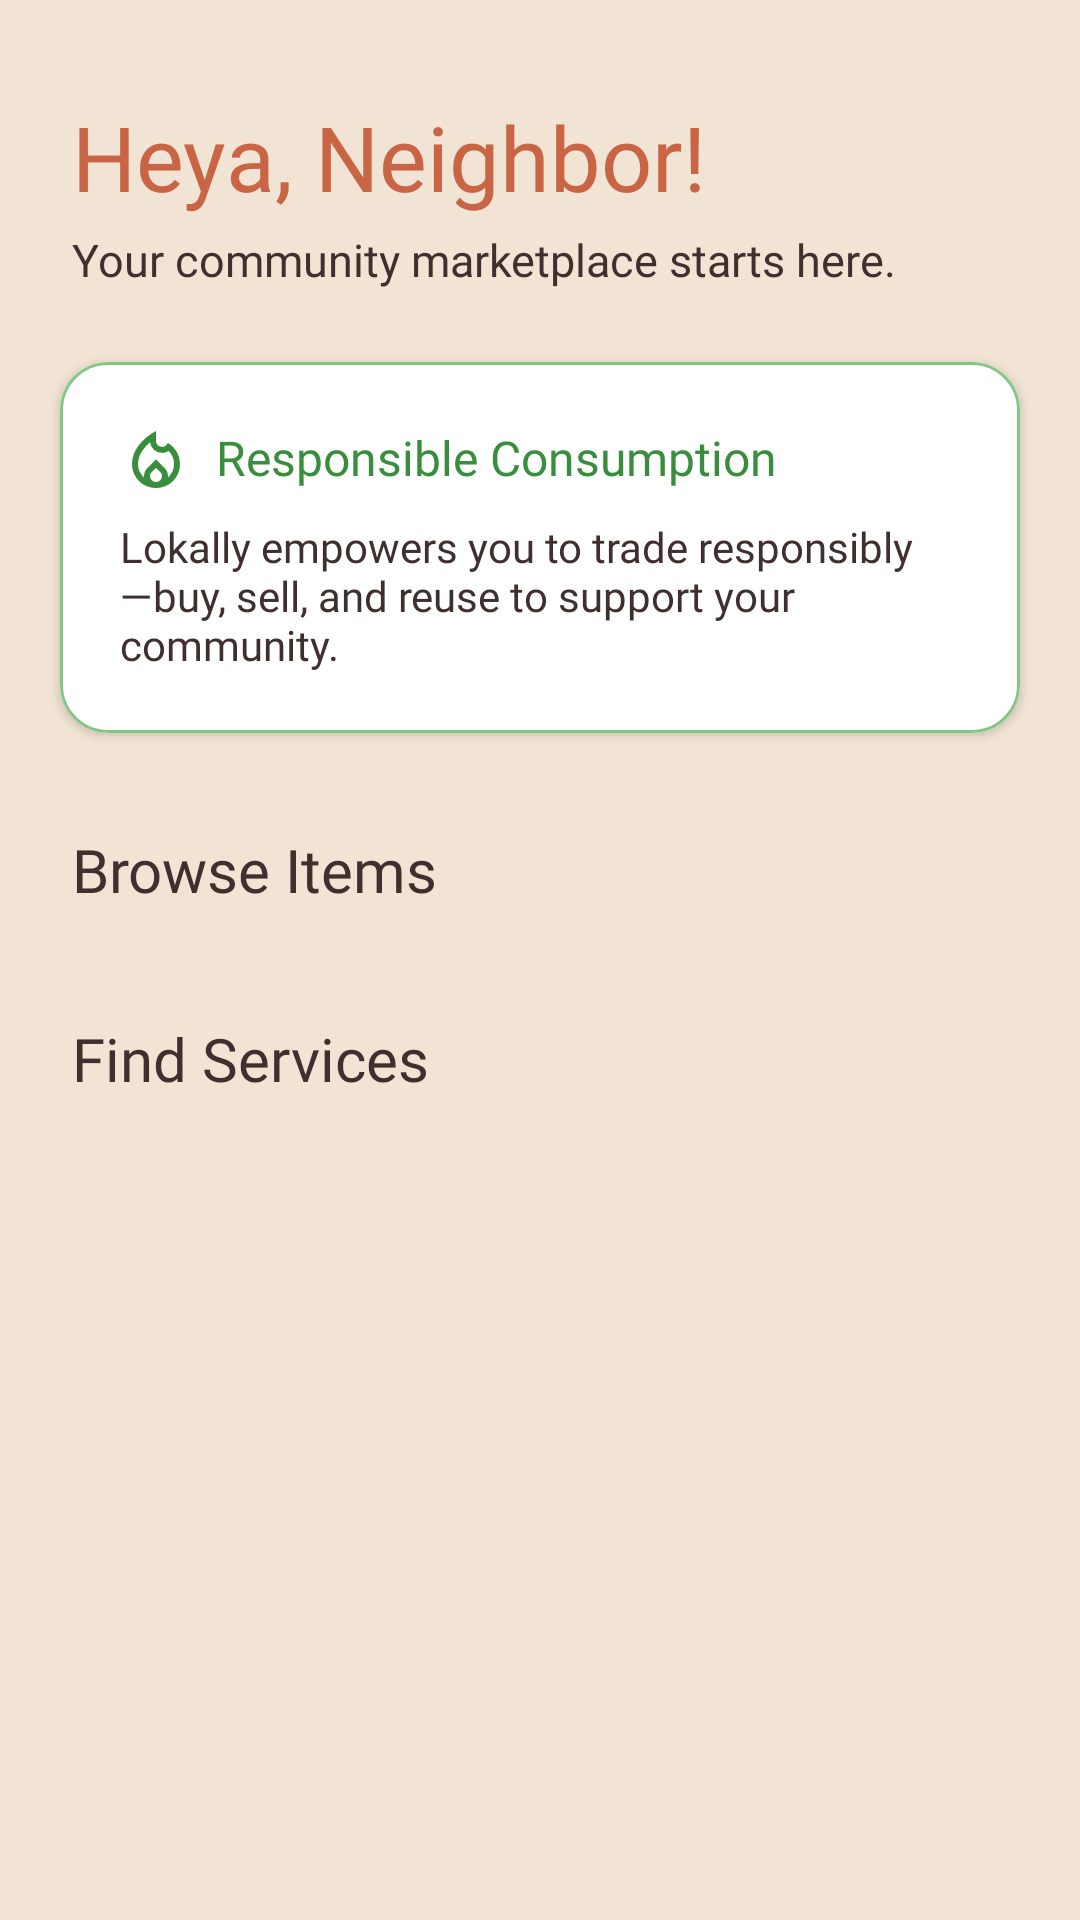

Icon bounding boxes for this 1080x1920 phone screenshot, format Rect(x1, y1, x2, y2):
local fire department: Rect(132, 431, 180, 488)
